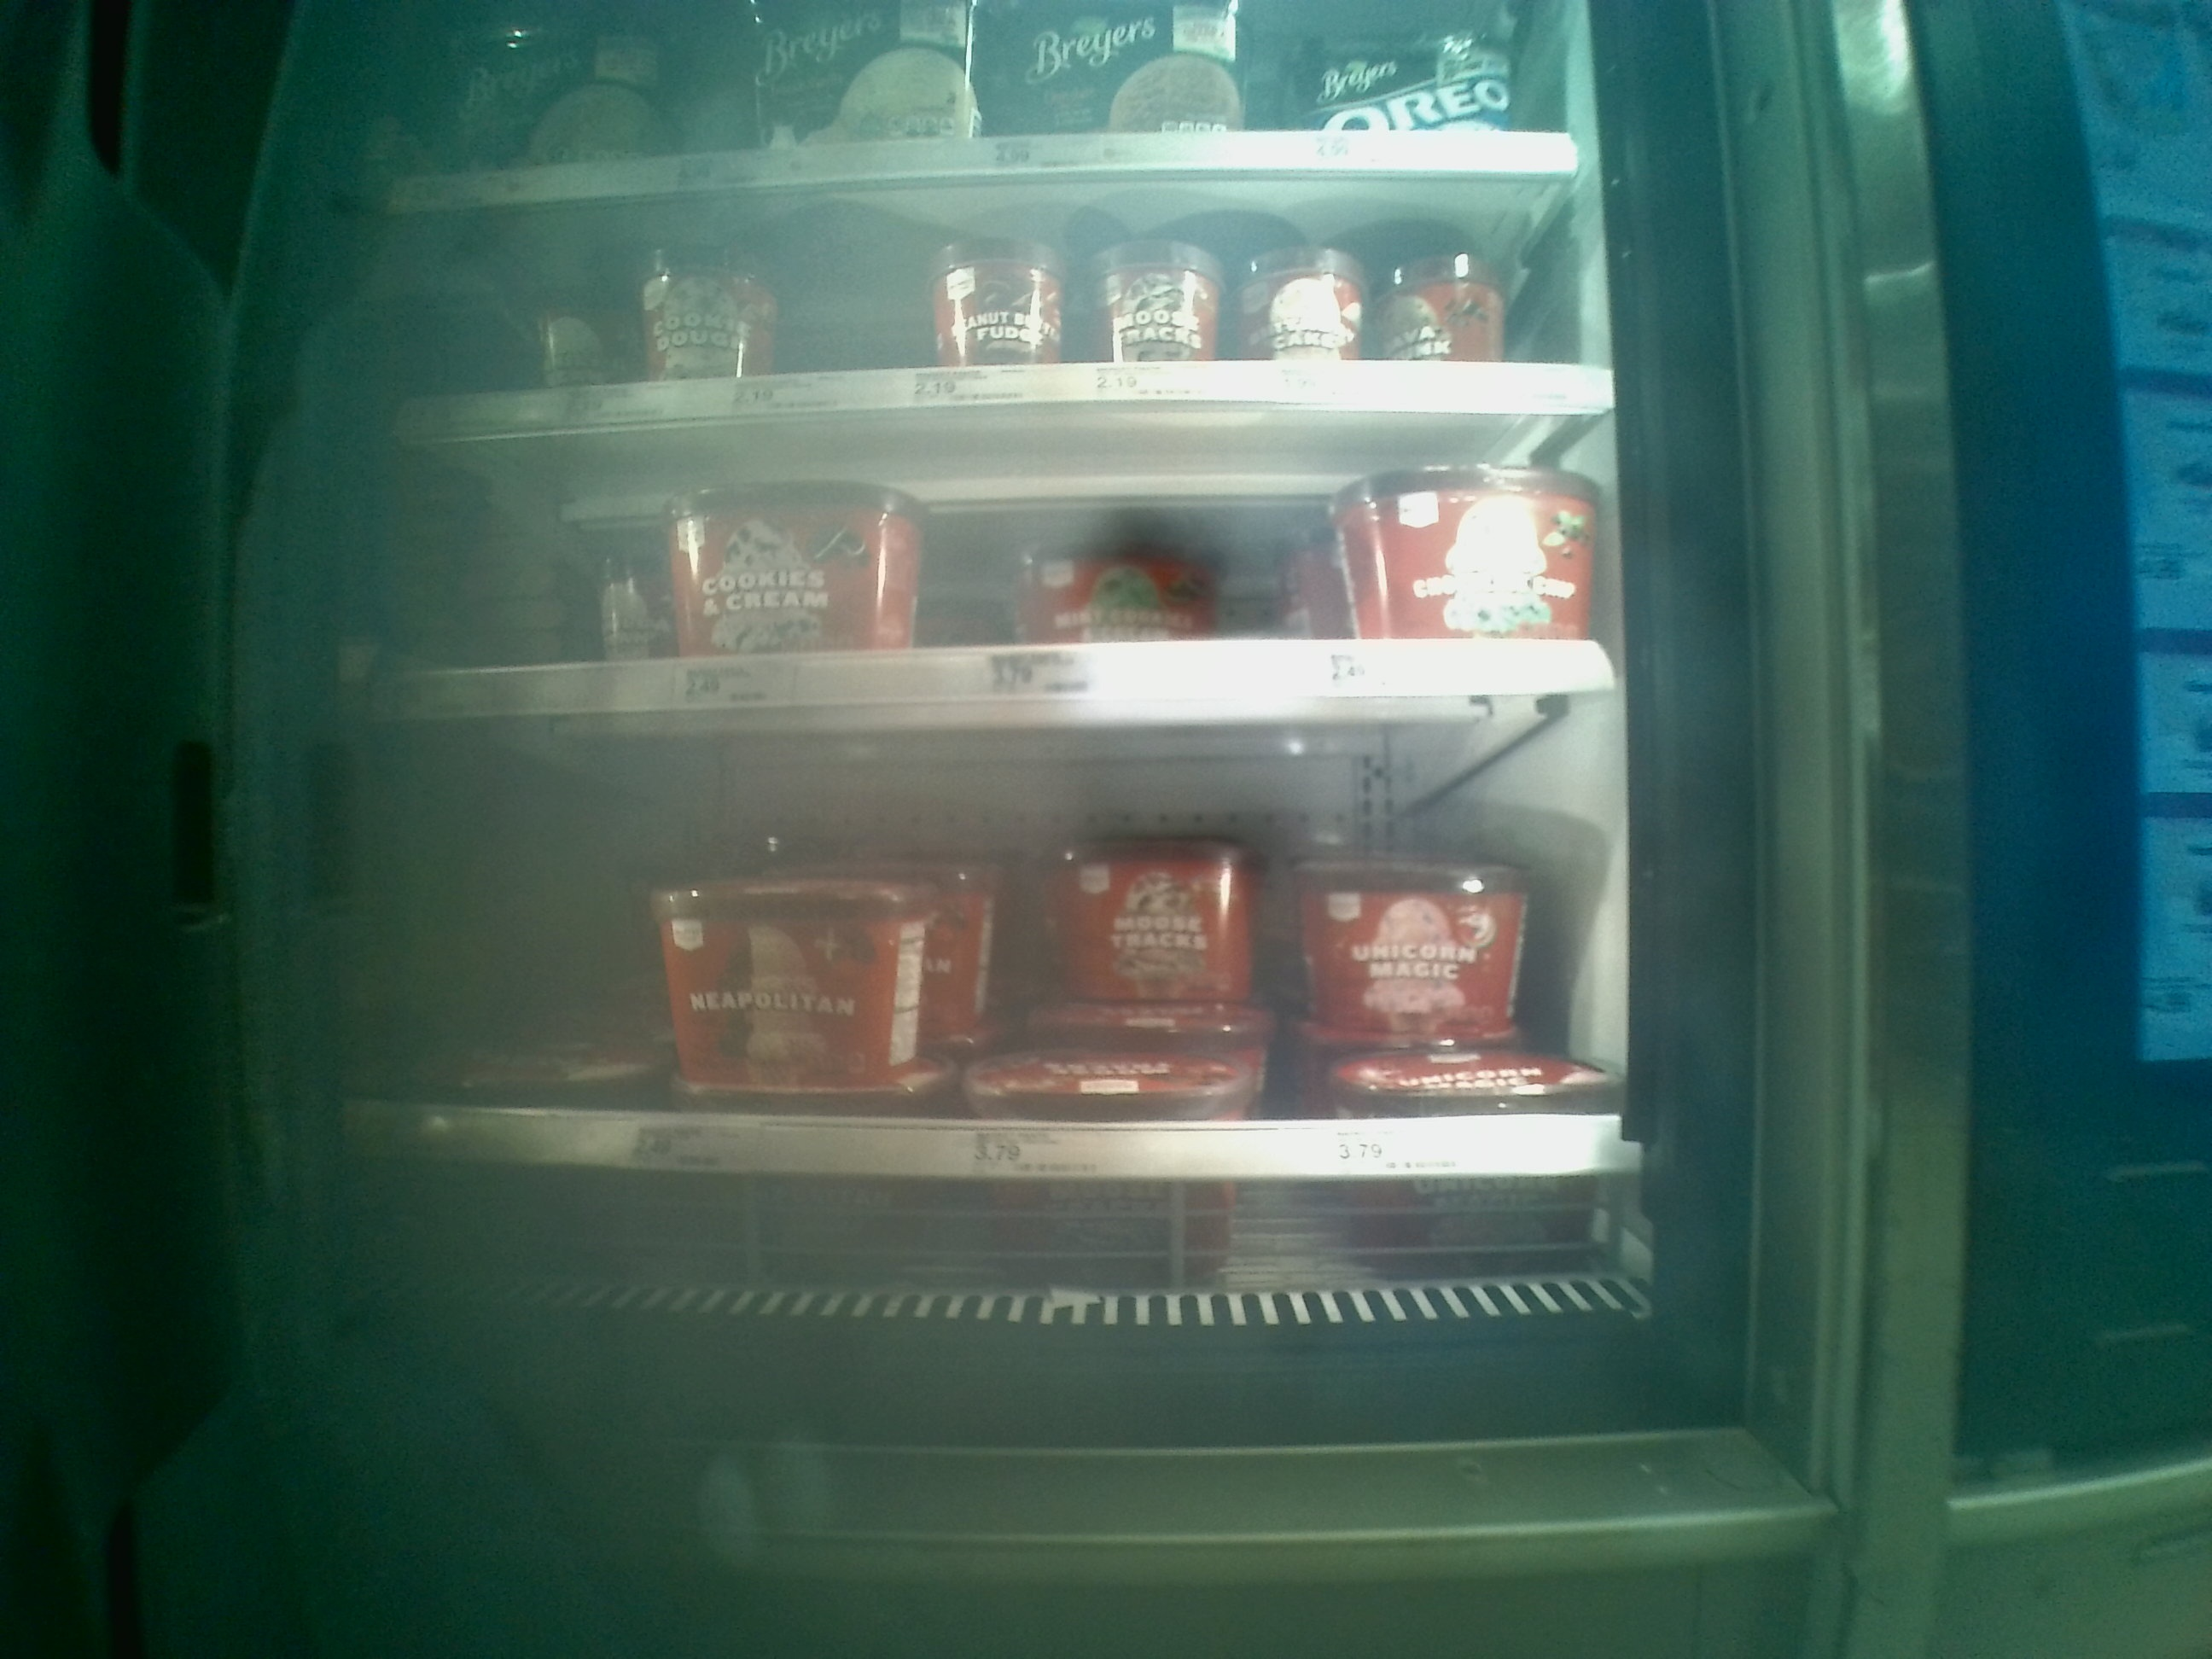ice-cream-shelf: (341, 716, 1644, 1206), (343, 425, 1639, 711)
